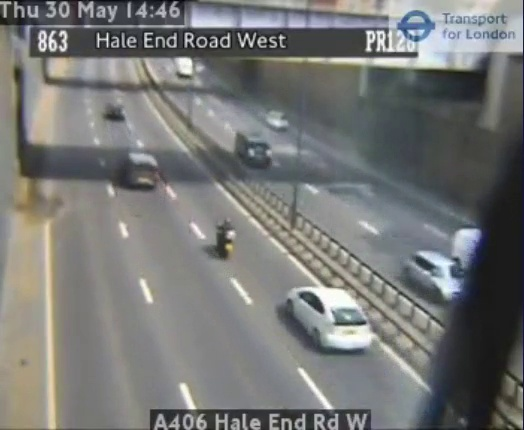car: (288, 286, 373, 352)
motorcycle: (216, 216, 236, 260)
van: (124, 153, 159, 187)
